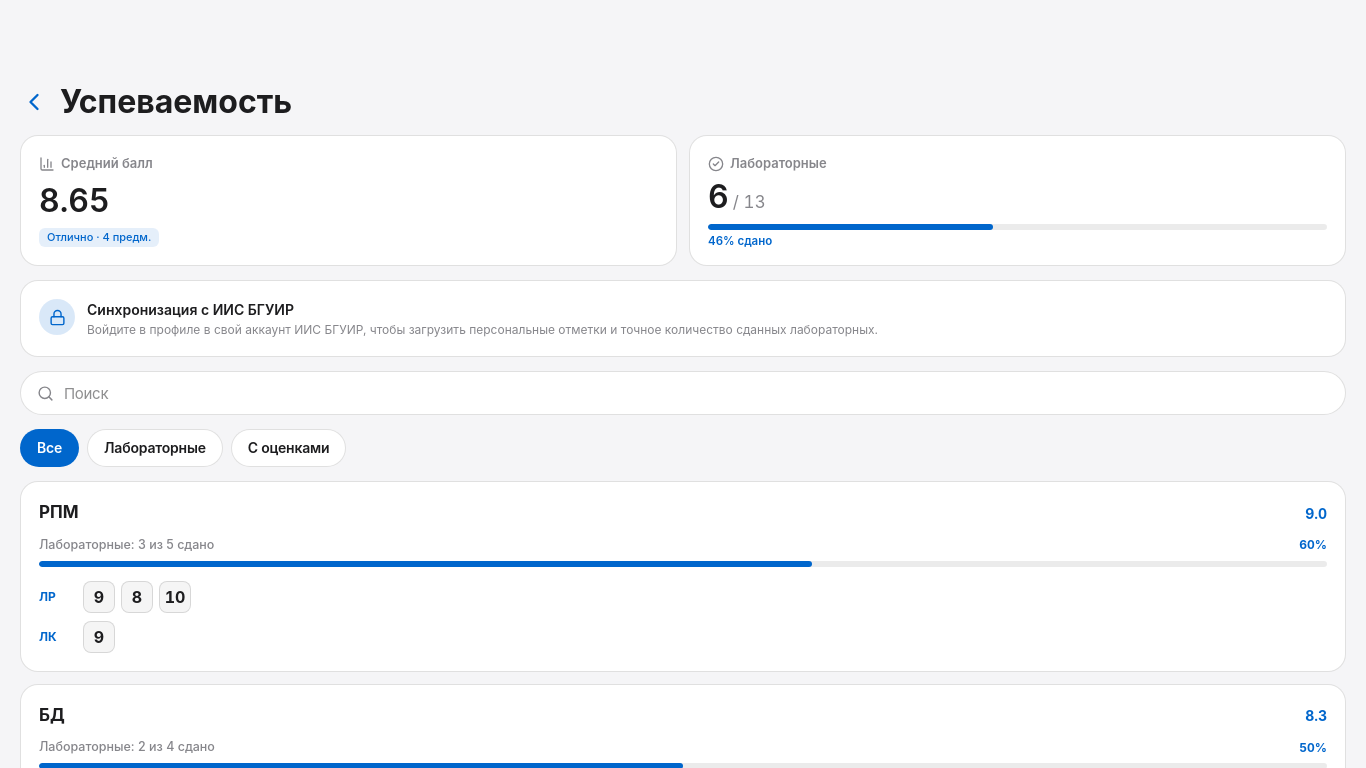
Test case: M3 Screens & Schedule Components › MarksScreen (F11) › renders KPI cards, unauth banner when guest, and filters subjects via search & chips
This screenshot has width=1366, height=768.
Later steps or results of the test are not shown.
expect the heading "Успеваемость" is shown: met, box left=60, top=84, right=292, bottom=121
expect the text "Средний балл" is shown: met, box left=61, top=154, right=153, bottom=173
Step 1. Click the button "Лабораторные" → x=155, y=448, box left=87, top=430, right=223, bottom=467
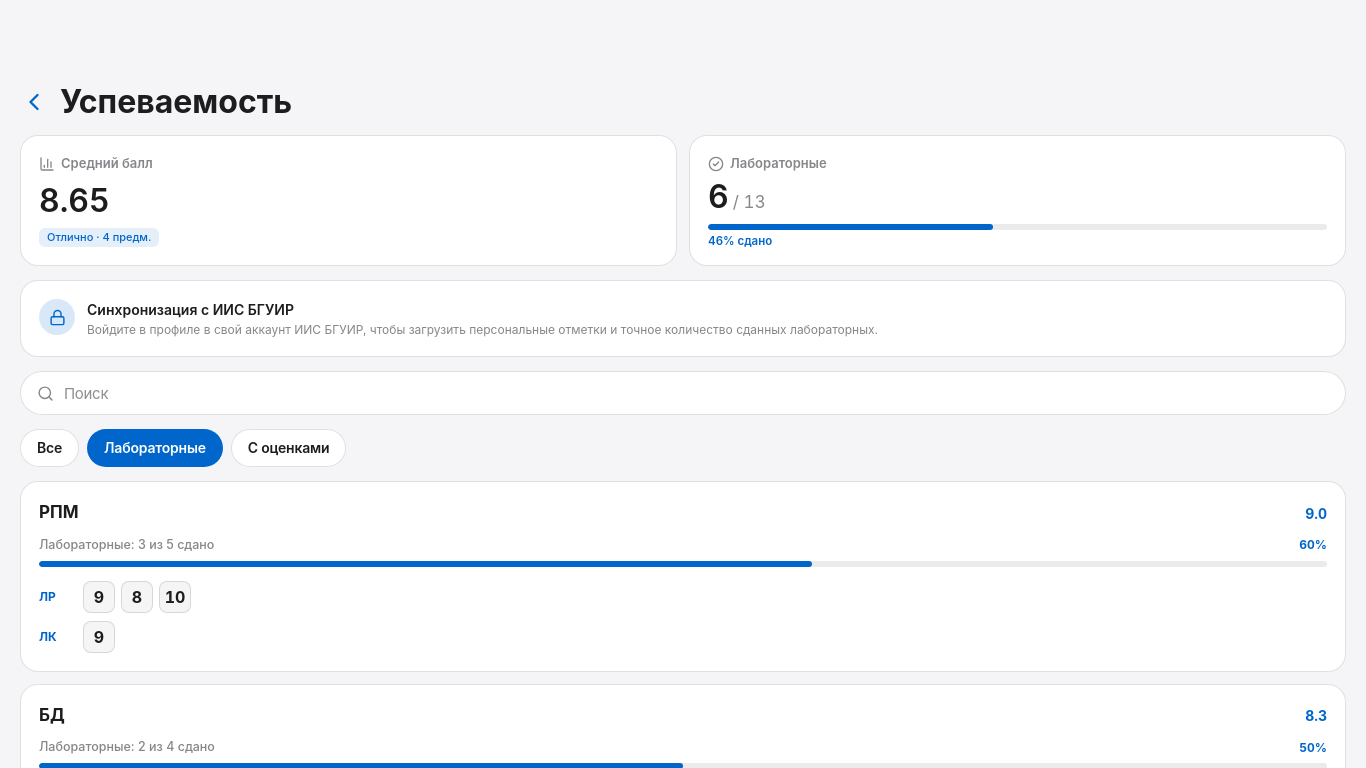
Step 2. Click the button "С оценками" → x=289, y=448, box left=231, top=430, right=346, bottom=467
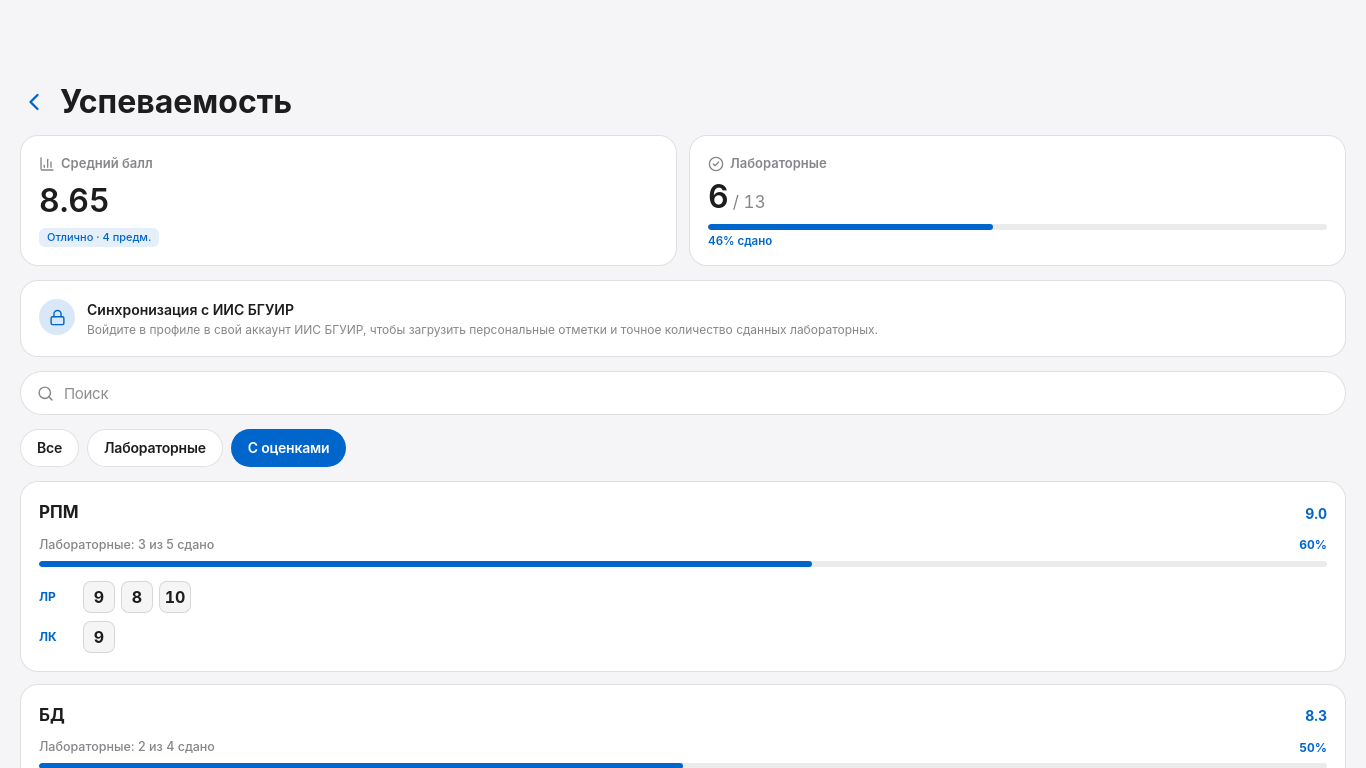
Step 3. Click the button "Все" → x=50, y=448, box left=20, top=430, right=79, bottom=467
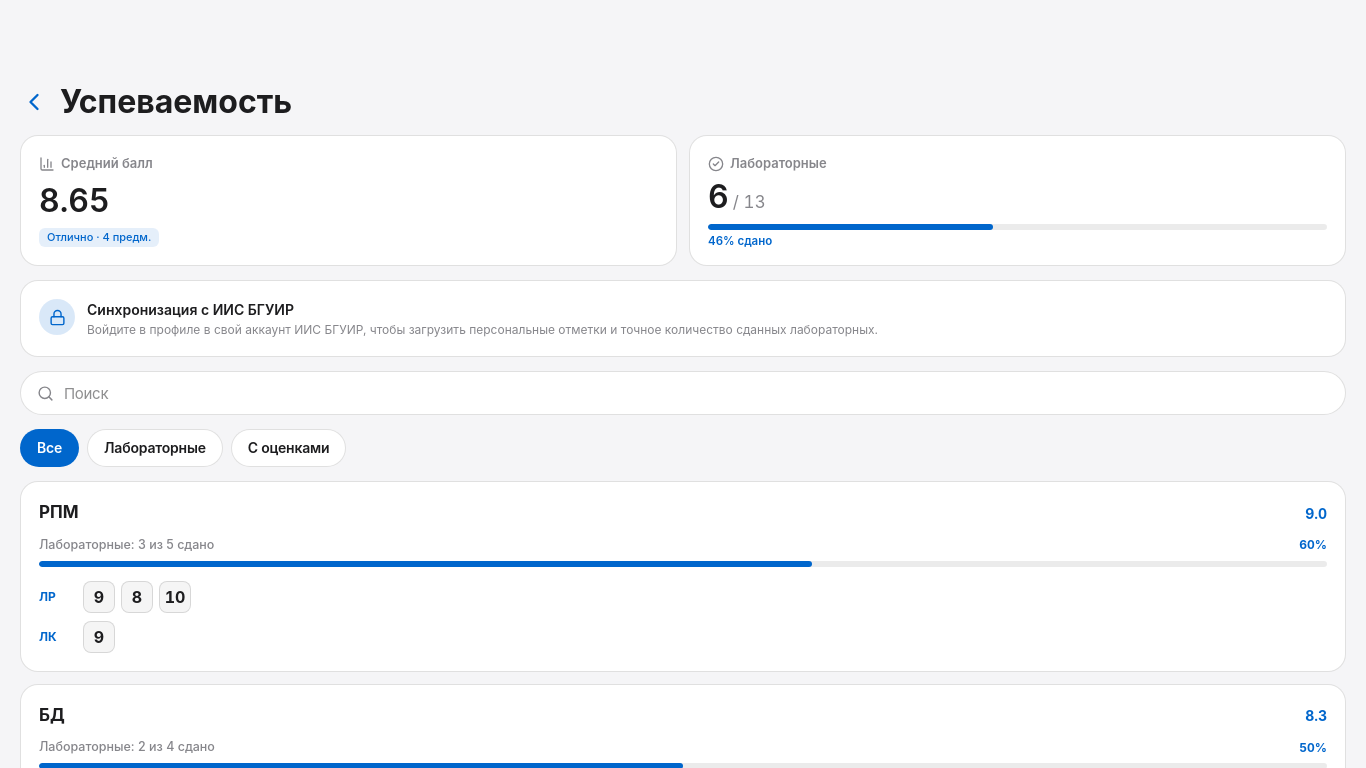
Step 4. Type "несуществующий_предмет_xyz" into the field with placeholder "Поиск" → x=696, y=393, box left=64, top=384, right=1329, bottom=403
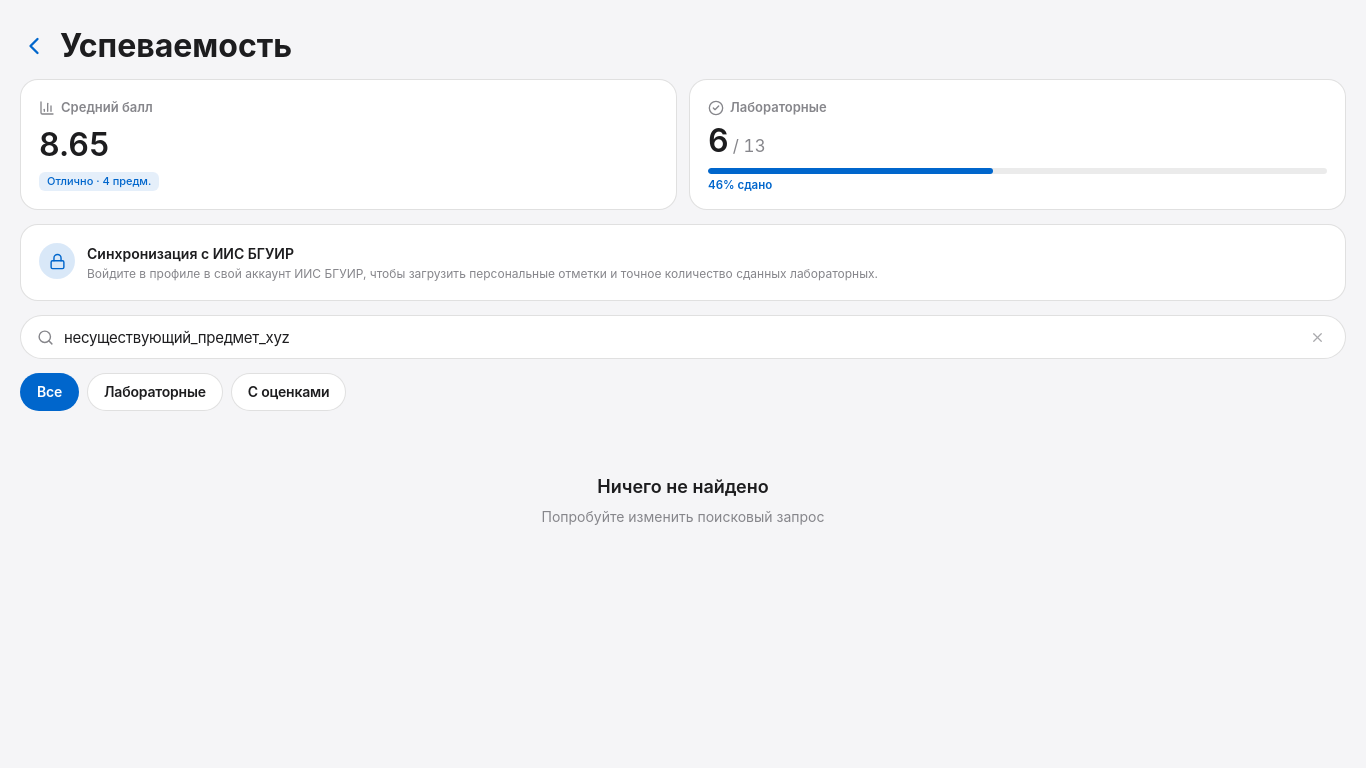
expect the text "Ничего не найдено" is shown: met, box left=597, top=473, right=769, bottom=500
